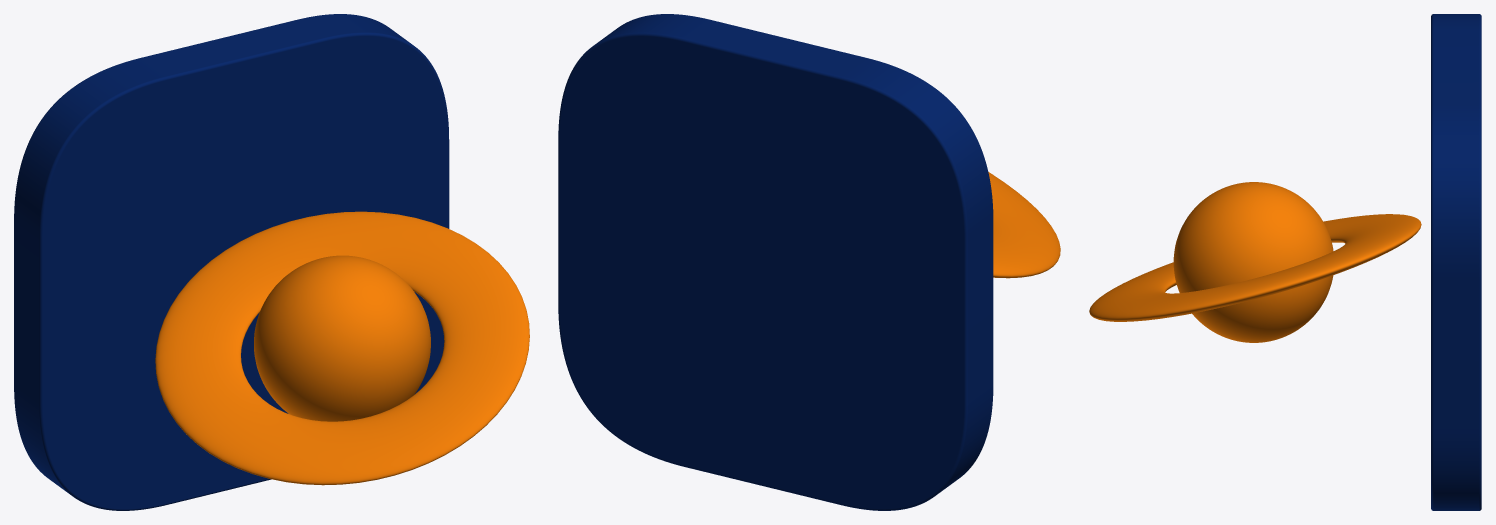
File: untverse.glb
3 renders of one model, left to right at view 1: azimuth 30°, elevation 25°; view 2: azimuth 150°, elevation 25°; view 3: azimuth 270°, elevation 25°, orthographic. The views are drawn at different scales.
Parts seen in each view (by area): view 1: Rectangle, Torus, Sphere; view 2: Rectangle, Torus; view 3: Rectangle, Sphere, Torus.
Part boxes in pixels (<box>): Rectangle: <box>14,14,449,510</box>; Torus: <box>155,211,529,485</box>; Sphere: <box>254,255,430,421</box>; Rectangle: <box>558,14,993,510</box>; Torus: <box>988,172,1060,278</box>; Rectangle: <box>1431,14,1481,510</box>; Sphere: <box>1173,182,1333,342</box>; Torus: <box>1089,214,1421,321</box>.
Bounding box in the file's own units: 3.24 × 3.24 × 2.94.
